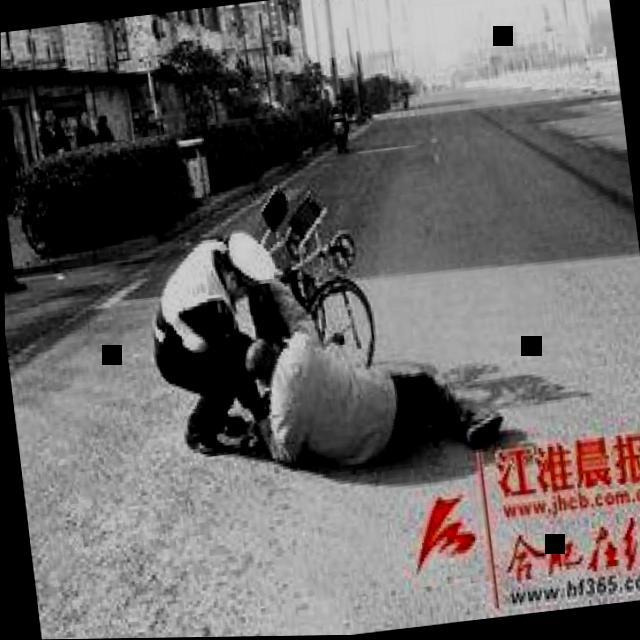Fall-Detected: (228, 287, 518, 496)
